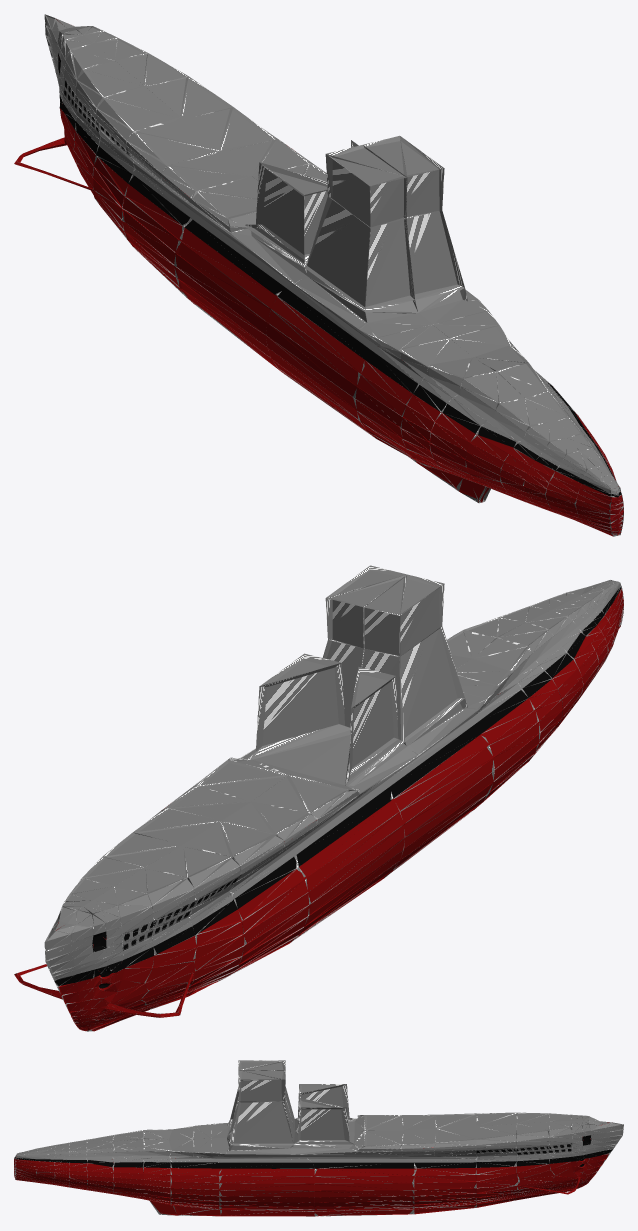
Rendered from carrier.obj.
The picture shows the model from 3 angles, top to bottom: view 1: azimuth 30°, elevation 25°; view 2: azimuth 150°, elevation 25°; view 3: azimuth 270°, elevation 25°; orthographic projection. The views are drawn at different scales.
Bounding box in the file's own units: 35.66 × 55.59 × 213.
2 materials, 2 textured.
